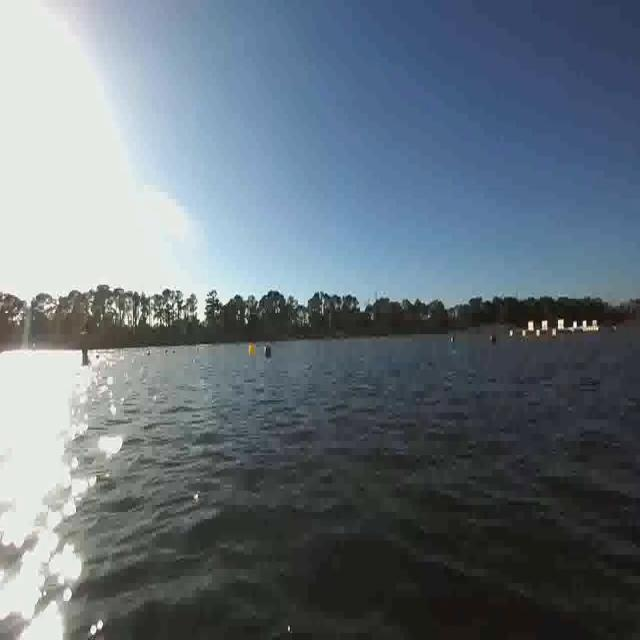black-buoy: (266, 344, 274, 359)
green-column-buoy: (78, 334, 90, 367)
yellow-buoy: (249, 344, 255, 358)
